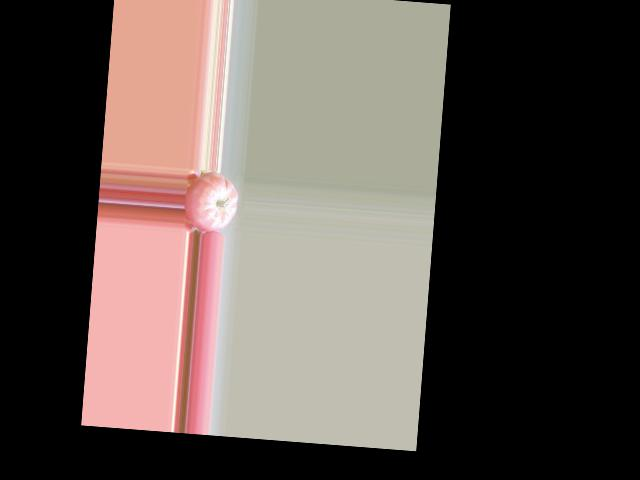tomato: (182, 169, 239, 233)
